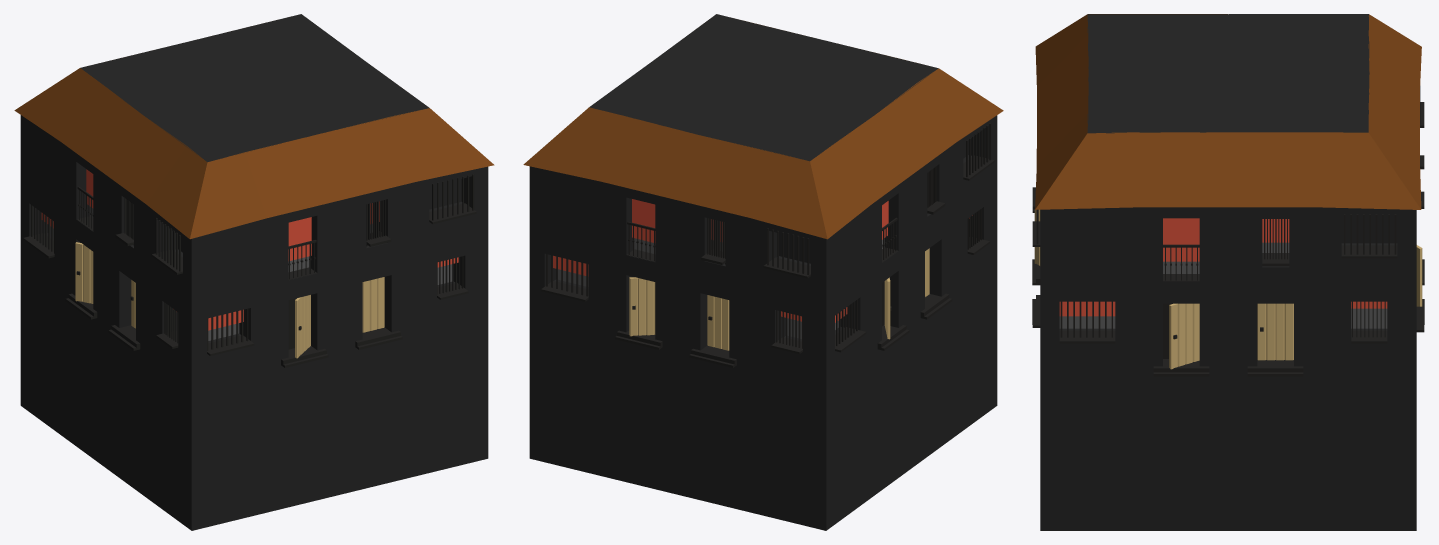
Rendered from casa procedural_relleno_Con sotano_6.fbx.
The picture shows the model from 3 angles, left to right: view 1: azimuth 30°, elevation 25°; view 2: azimuth 150°, elevation 25°; view 3: azimuth 270°, elevation 25°; orthographic projection. The views are drawn at different scales.
Visible parts, largest first — view 1: Procedural_Building_straight.001; view 2: Procedural_Building_straight.001; view 3: Procedural_Building_straight.001.
Part boxes in pixels (x1,y1,x2,y2): Procedural_Building_straight.001: (14,14,494,530); Procedural_Building_straight.001: (523,14,1003,530); Procedural_Building_straight.001: (1032,14,1424,530).
Bounding box in the file's own units: 418 × 444 × 418.
